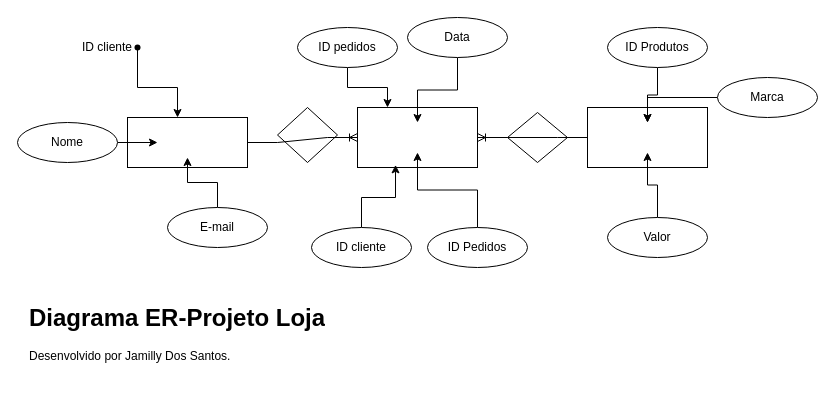
Image size: 835x398. Some labels were removed from this diagram. The box of each missing label's shape, as (x1, y1, x2, y2) in pixels:
Cliente: (126, 116, 248, 168)
Pedido: (356, 106, 478, 168)
Produto: (586, 106, 708, 168)
